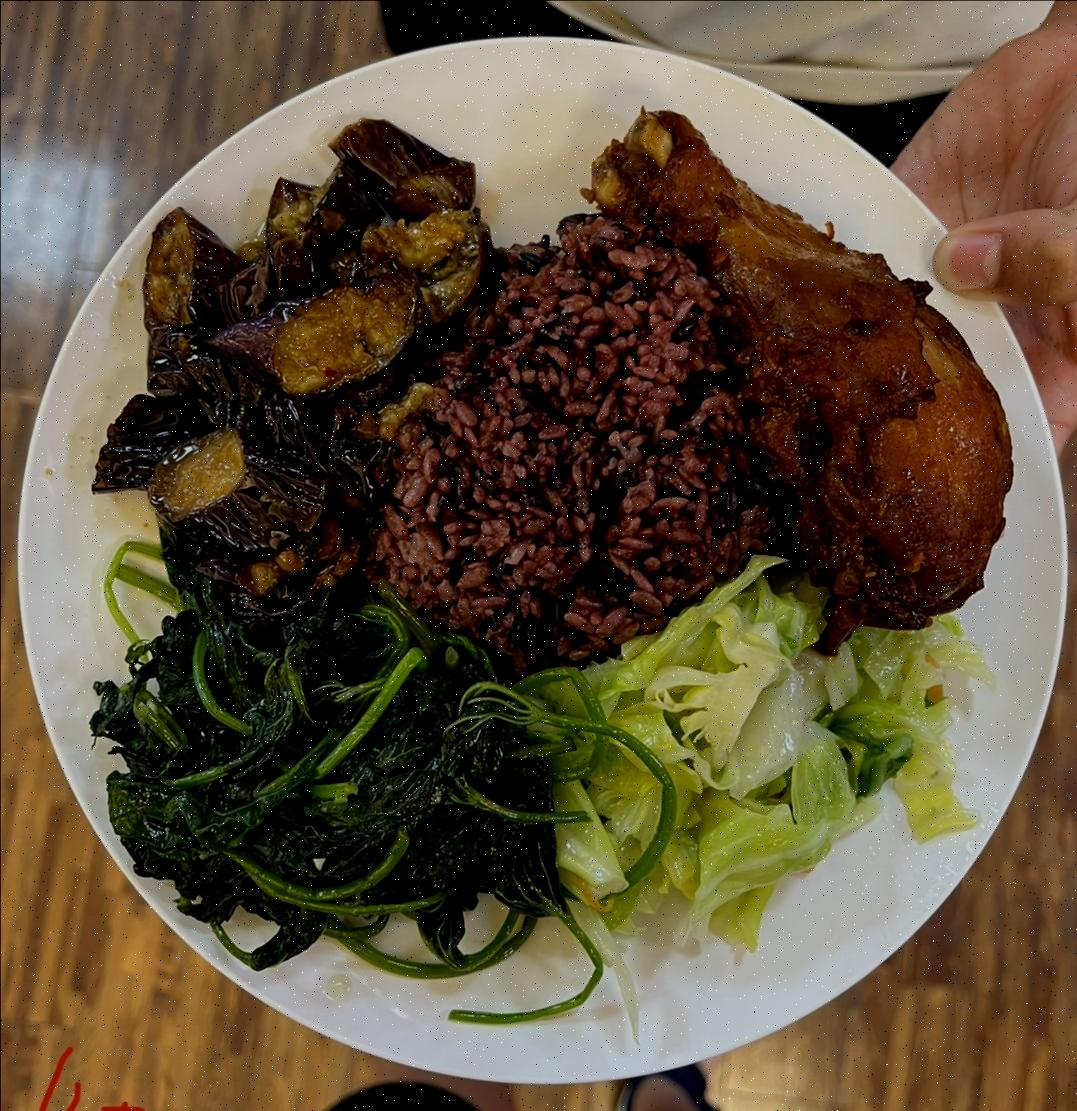big fried chicken leg: (13, 23, 1065, 1099)
braised fish: (361, 200, 738, 674)
braised fish fillet: (100, 106, 486, 620), (508, 558, 986, 931), (96, 580, 538, 962)
braised pork: (606, 118, 1020, 625)
